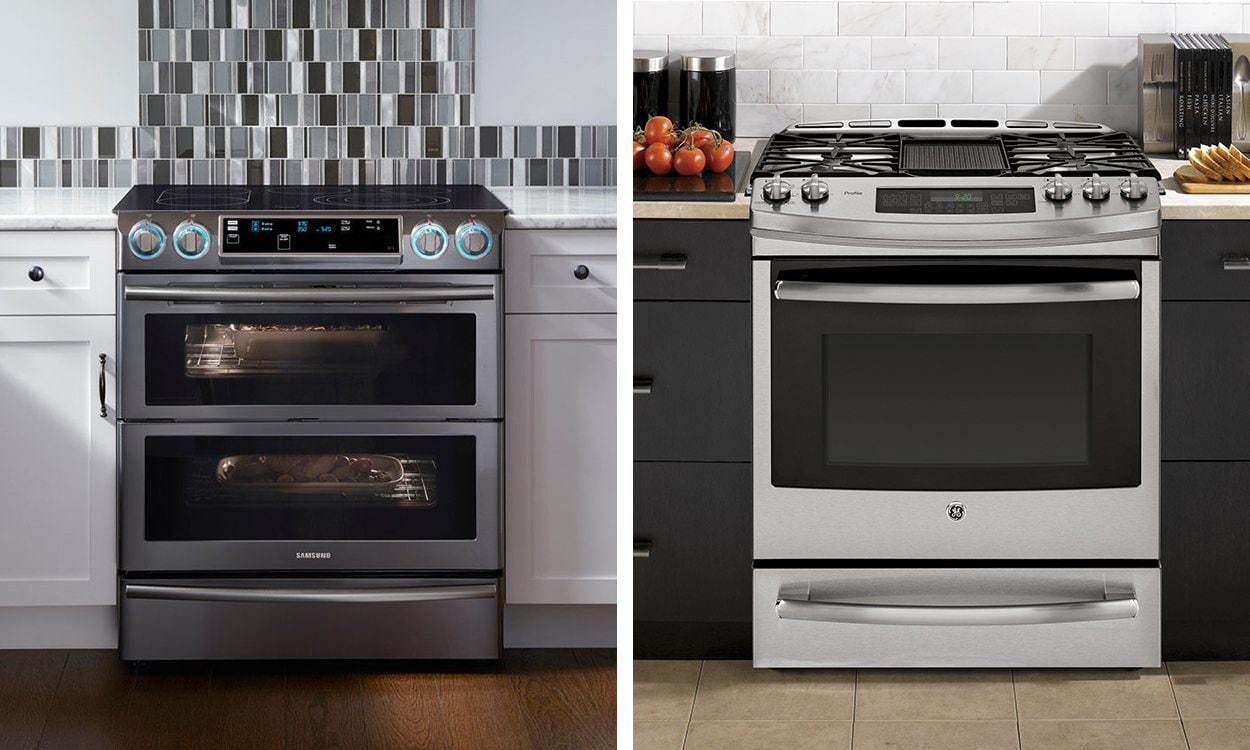stove: (114, 172, 503, 663)
